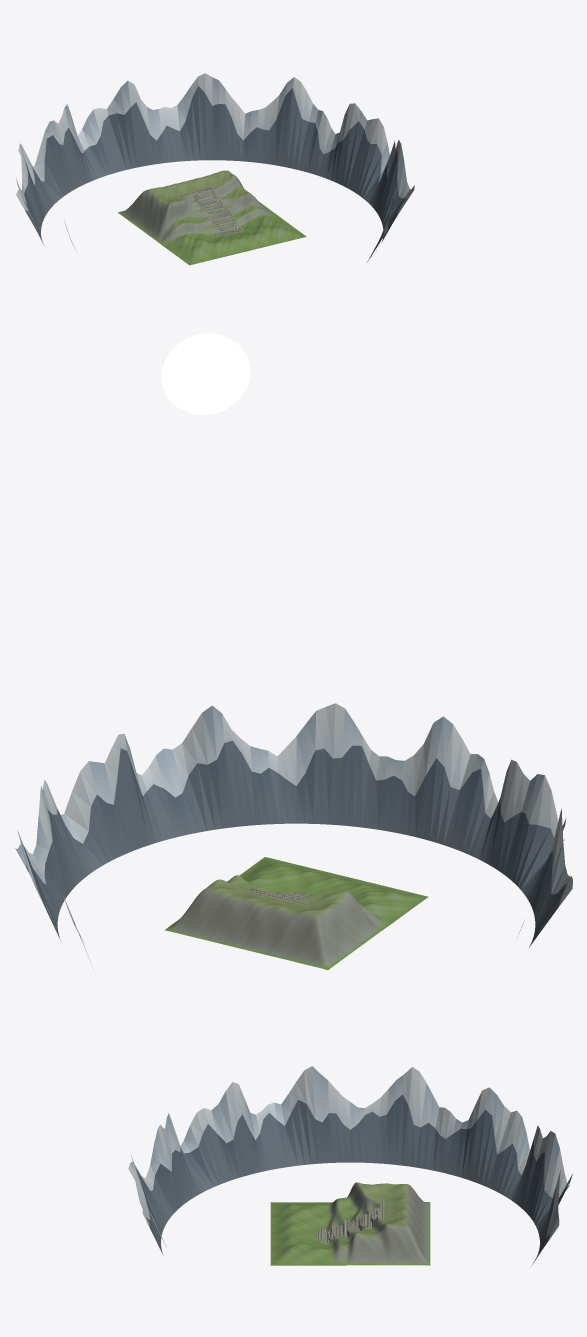
Rendered from alpe.glb.
The picture shows the model from 3 angles, top to bottom: view 1: azimuth 30°, elevation 25°; view 2: azimuth 150°, elevation 25°; view 3: azimuth 270°, elevation 25°; orthographic projection. The views are drawn at different scales.
Parts seen in each view (by area): view 1: Peaks, Land_016, Land_001, Land_000, Land_007, Land_002, Land_014, Land_011, Land_015, Land_006; view 2: Peaks, Sun, Land_016, Land_014, Land_015, Land_001, Land_000, Land_002; view 3: Peaks, Land_014, Land_001, Land_000, Land_011, Land_002, Land_016, Land_015, Land_007, Land_006.
Part boxes in pixels (x1,y1,x2,y2): Peaks: [16, 73, 414, 261]; Land_016: [118, 186, 185, 241]; Land_001: [162, 227, 228, 265]; Land_000: [222, 226, 306, 255]; Land_007: [157, 207, 230, 244]; Land_002: [217, 212, 303, 234]; Land_014: [193, 170, 242, 195]; Land_011: [197, 180, 270, 210]; Land_015: [165, 178, 207, 205]; Land_006: [207, 198, 276, 223]; Peaks: [15, 703, 572, 968]; Sun: [161, 333, 250, 414]; Land_016: [276, 891, 383, 970]; Land_014: [165, 879, 286, 946]; Land_015: [232, 892, 315, 957]; Land_001: [335, 883, 428, 925]; Land_000: [261, 857, 373, 897]; Land_002: [239, 859, 293, 895]; Peaks: [128, 1066, 572, 1267]; Land_014: [375, 1206, 430, 1265]; Land_001: [270, 1202, 334, 1237]; Land_000: [270, 1221, 322, 1265]; Land_011: [349, 1212, 390, 1265]; Land_002: [276, 1228, 336, 1265]; Land_016: [350, 1182, 430, 1221]; Land_015: [363, 1194, 430, 1238]; Land_007: [332, 1190, 361, 1235]; Land_006: [335, 1221, 352, 1265].
Size of what is drawn, in the model's own units: 5993 by 3868 by 6573.
